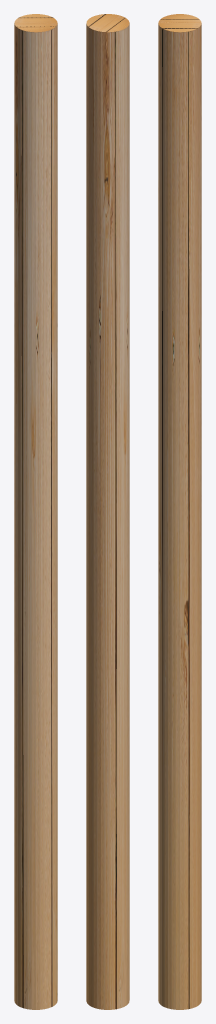
The model's file is bar.gltf.
3 views of the same model, side by side, from view 1: azimuth 90°, elevation 25°; view 2: azimuth 150°, elevation 25°; view 3: azimuth 270°, elevation 25° (orthographic).
Visible parts, largest first — view 1: 円柱; view 2: 円柱; view 3: 円柱.
Boxes of the visible parts, <box> form: 円柱: <box>14,14,57,1009</box>; 円柱: <box>86,14,129,1009</box>; 円柱: <box>158,14,201,1009</box>.
Size of the model in its own units: 0.6 by 15 by 0.6.
Materials: 1 (1 with a texture image).
